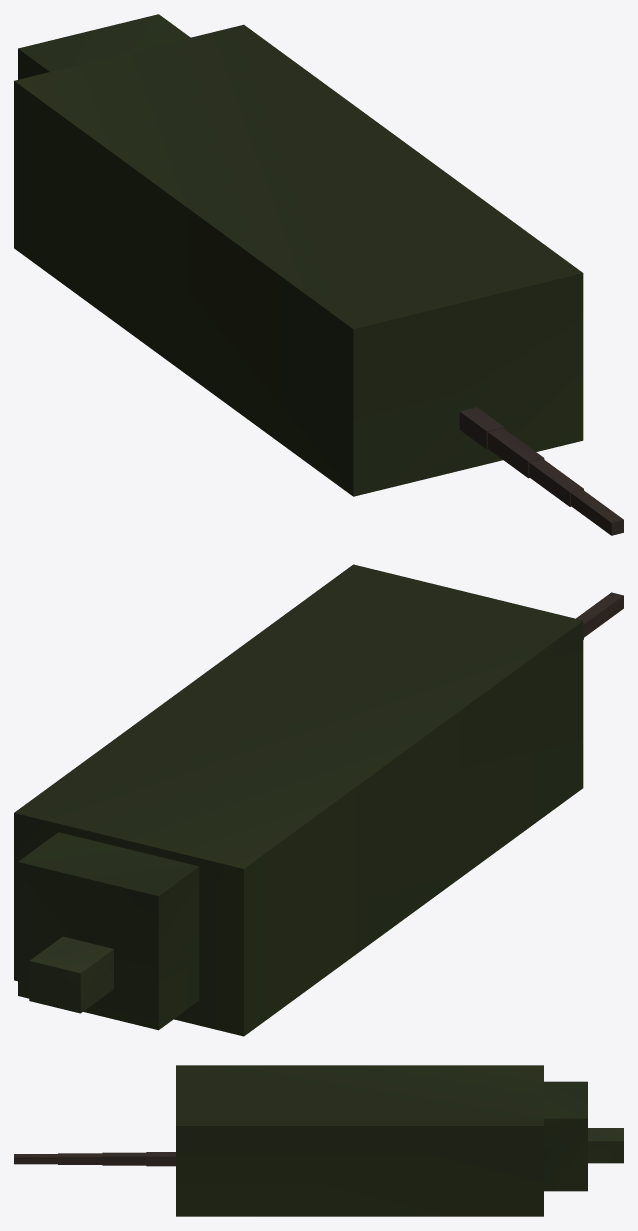
File: rat.glb
3 renders of one model, top to bottom at view 1: azimuth 30°, elevation 25°; view 2: azimuth 150°, elevation 25°; view 3: azimuth 270°, elevation 25°, orthographic. The views are drawn at different scales.
Visible parts, largest first — view 1: rat.glb; view 2: rat.glb; view 3: rat.glb.
Part boxes in pixels (x1=…): rat.glb: x1=14, y1=14, x2=623, y2=535; rat.glb: x1=14, y1=564, x2=623, y2=1036; rat.glb: x1=14, y1=1065, x2=623, y2=1216.
Bounding box in the file's own units: 0.236 × 0.1643 × 1.
